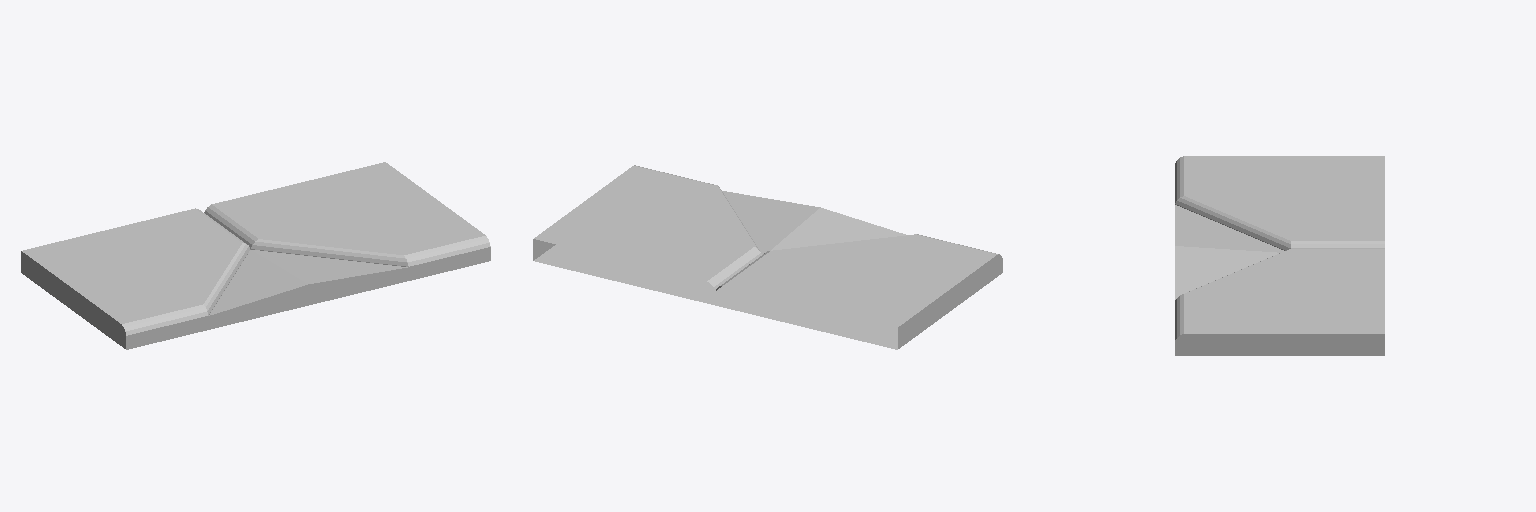
File: DoorHyper_high.obj
3 renders of one model, left to right at view 1: azimuth 30°, elevation 25°; view 2: azimuth 150°, elevation 25°; view 3: azimuth 270°, elevation 25°, orthographic.
Parts seen in each view (by area): view 1: DoorSub_high_Cube.004; view 2: DoorSub_high_Cube.004; view 3: DoorSub_high_Cube.004.
Boxes of the visible parts, x1,y1,x2,y2 form: DoorSub_high_Cube.004: [21, 162, 490, 349]; DoorSub_high_Cube.004: [533, 165, 1002, 349]; DoorSub_high_Cube.004: [1175, 156, 1384, 355].
Bounding box in the file's own units: 0.36 × 0.021 × 0.18.